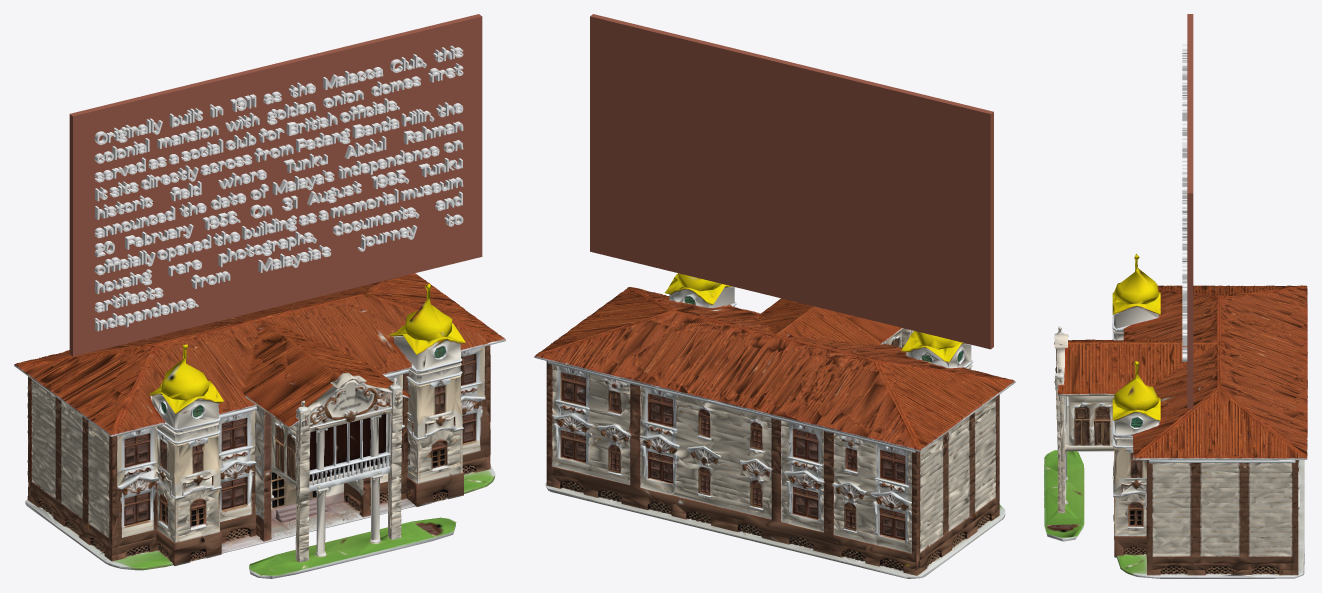
The model's file is memorial3d-v1.glb.
The picture shows the model from 3 angles, left to right: view 1: azimuth 30°, elevation 25°; view 2: azimuth 150°, elevation 25°; view 3: azimuth 270°, elevation 25°; orthographic projection. The views are drawn at different scales.
Parts seen in each view (by area): view 1: Mesh_0, Plane, memorial; view 2: Mesh_0, Plane; view 3: Mesh_0, Plane, memorial.
Boxes of the visible parts, <box> form: Mesh_0: <box>14,273,505,578</box>; Plane: <box>69,14,482,356</box>; memorial: <box>94,45,463,331</box>; Mesh_0: <box>534,273,1015,578</box>; Plane: <box>590,14,993,349</box>; Mesh_0: <box>1044,254,1307,578</box>; Plane: <box>1187,14,1193,408</box>; memorial: <box>1182,44,1187,361</box>.
Size of the model in its own units: 0.9995 by 1.02 by 0.6215.
3 materials, 1 textured.
